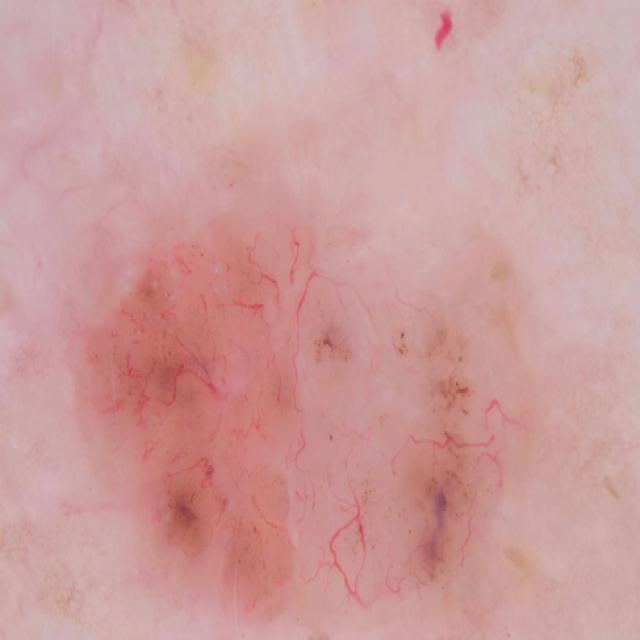Carcinoma: (43, 167, 606, 640)
